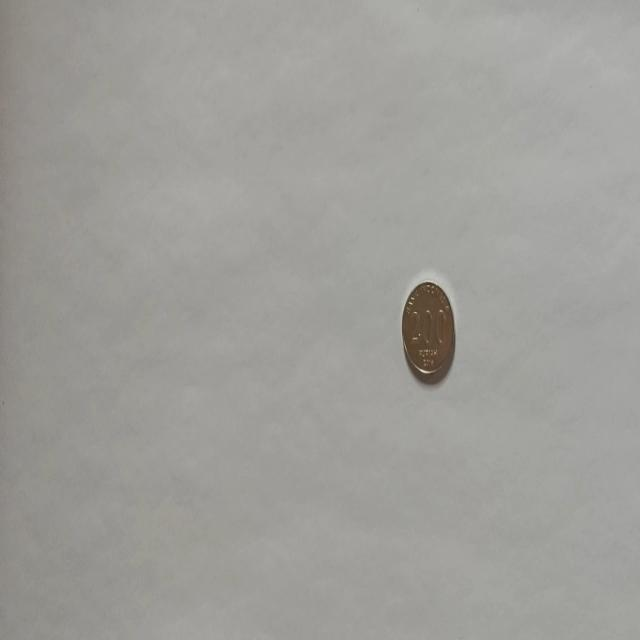dua ratus rupiah: (400, 278, 456, 382)
